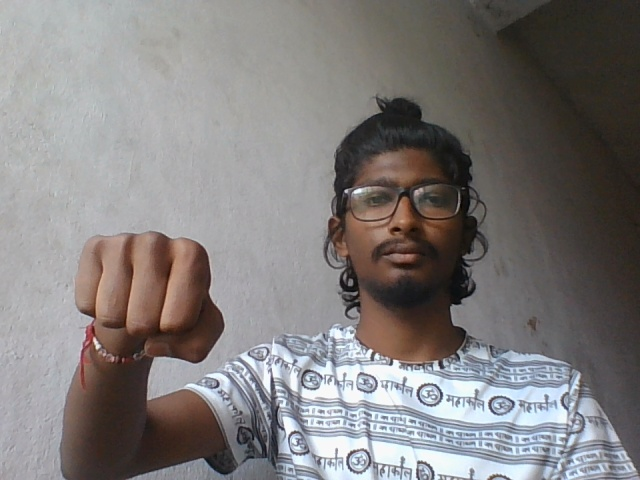Change: (67, 229, 230, 369)
